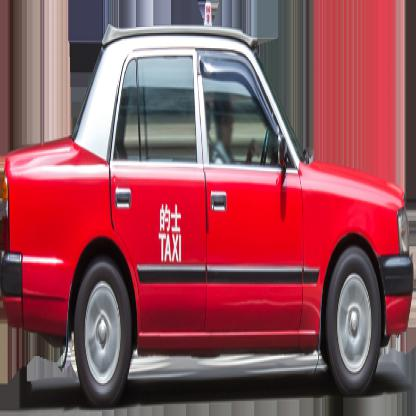taxi: (1, 1, 416, 407)
